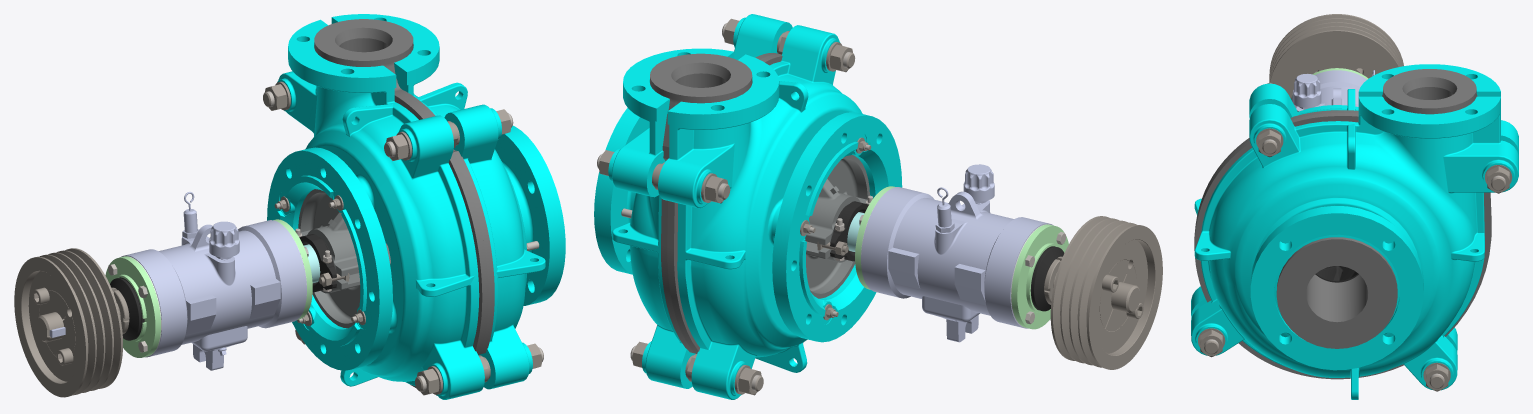
The model's file is liquid_packaging_machine.glb.
The picture shows the model from 3 angles, left to right: view 1: azimuth 30°, elevation 25°; view 2: azimuth 150°, elevation 25°; view 3: azimuth 270°, elevation 25°; orthographic projection. The views are drawn at different scales.
Visible parts, largest first — view 1: Solid1 (×14); view 2: Solid1 (×14); view 3: Solid1 (×12).
Part boxes in pixels (bbox=[...]): Solid1 (×14): bbox=[14, 14, 565, 399]; Solid1 (×14): bbox=[594, 14, 1162, 399]; Solid1 (×12): bbox=[1191, 14, 1518, 399].
Bounding box in the file's own units: 0.8474 × 0.5112 × 0.5271.
